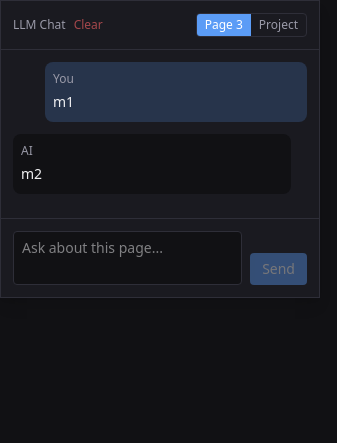
Test: ChatPanel — Clear DELETE by scope (T-B6/T-B7) › page scope: DELETE with pageNumber, then empties
The image size is (337, 443).
What coordinates should you click on to do the following:
click the button "Clear"
I would click on:
 (88, 25)
Its box is [74, 16, 103, 34].
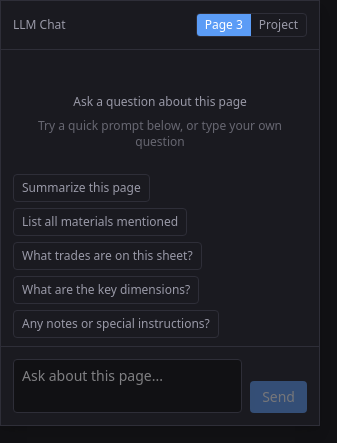
Now the text "Ask a question about this page" is shown, box [73, 93, 247, 110]
